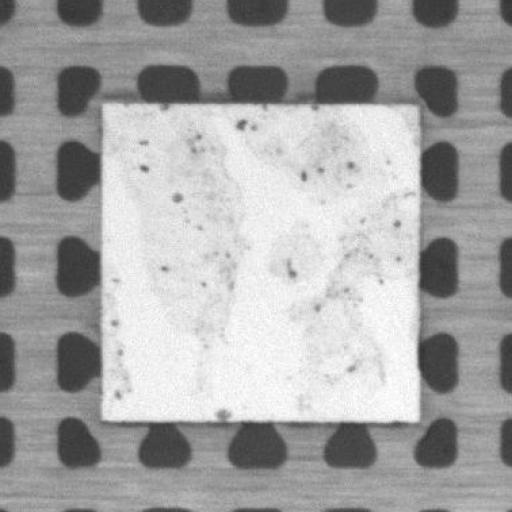DIE_INK: (99, 102, 420, 422)
